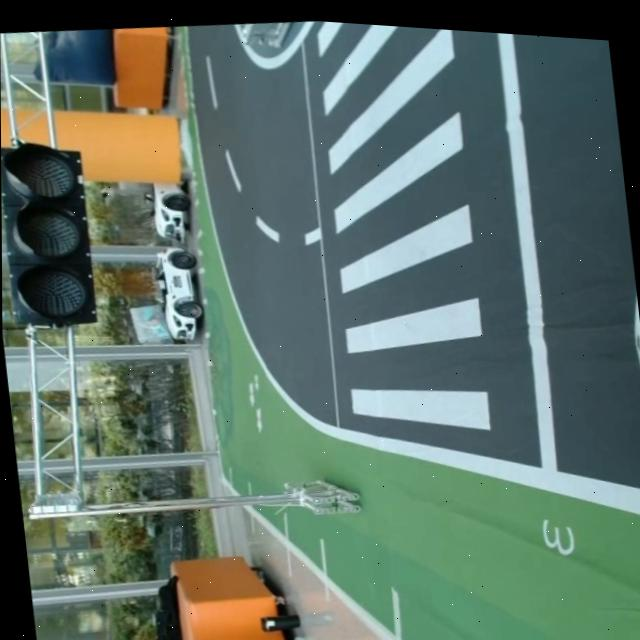traffic-light: (1, 132, 101, 339)
